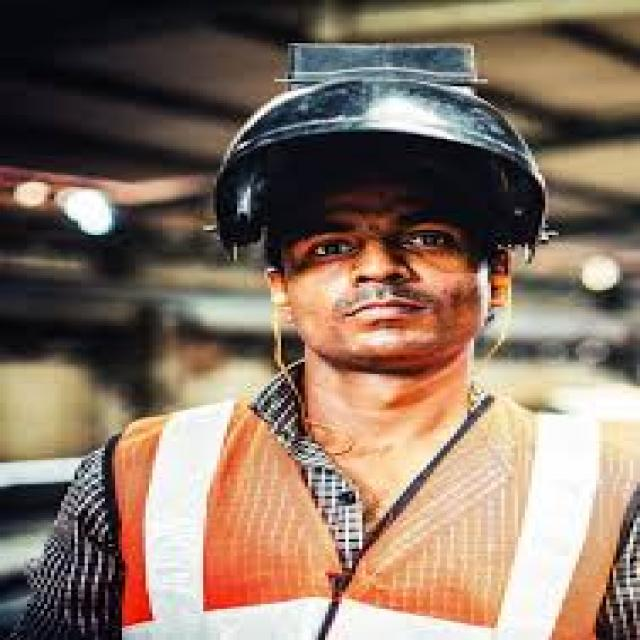Reflective-Jacket: (88, 383, 640, 638)
Safety-Helmet: (193, 62, 582, 240)
